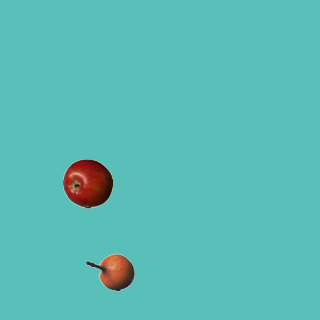Apple Braeburn: (62, 158, 112, 208)
Granadilla: (84, 247, 134, 297)
